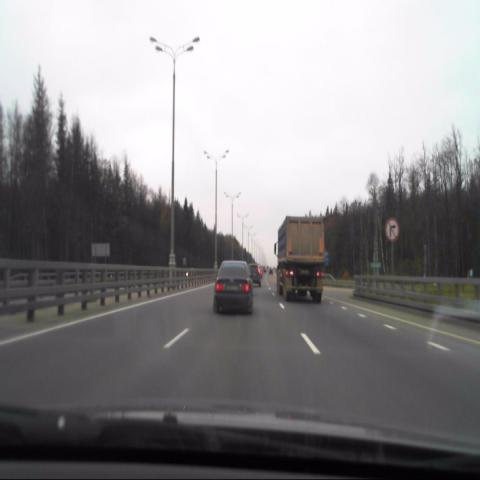3_18: (385, 217, 399, 242)
